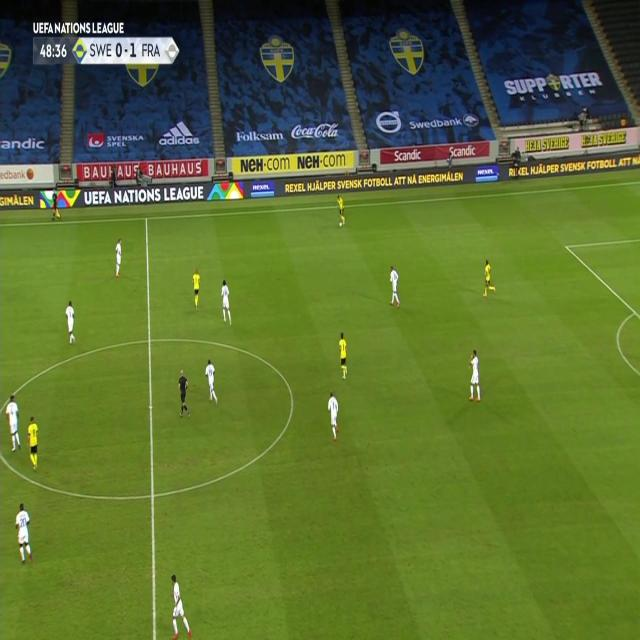ball: (339, 222, 342, 228)
player: (167, 572, 192, 636), (13, 500, 35, 564), (4, 392, 22, 452), (467, 348, 482, 402), (176, 369, 192, 418), (26, 414, 40, 469), (326, 389, 340, 441), (203, 358, 219, 403), (336, 330, 350, 380), (63, 299, 77, 345), (219, 278, 233, 324), (482, 258, 496, 298), (388, 264, 400, 307), (191, 266, 201, 308), (114, 236, 124, 278), (50, 188, 61, 220), (336, 192, 346, 227)
